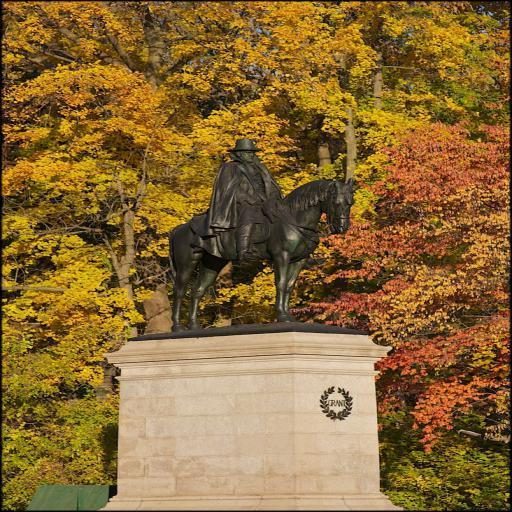horse: (166, 176, 354, 331)
